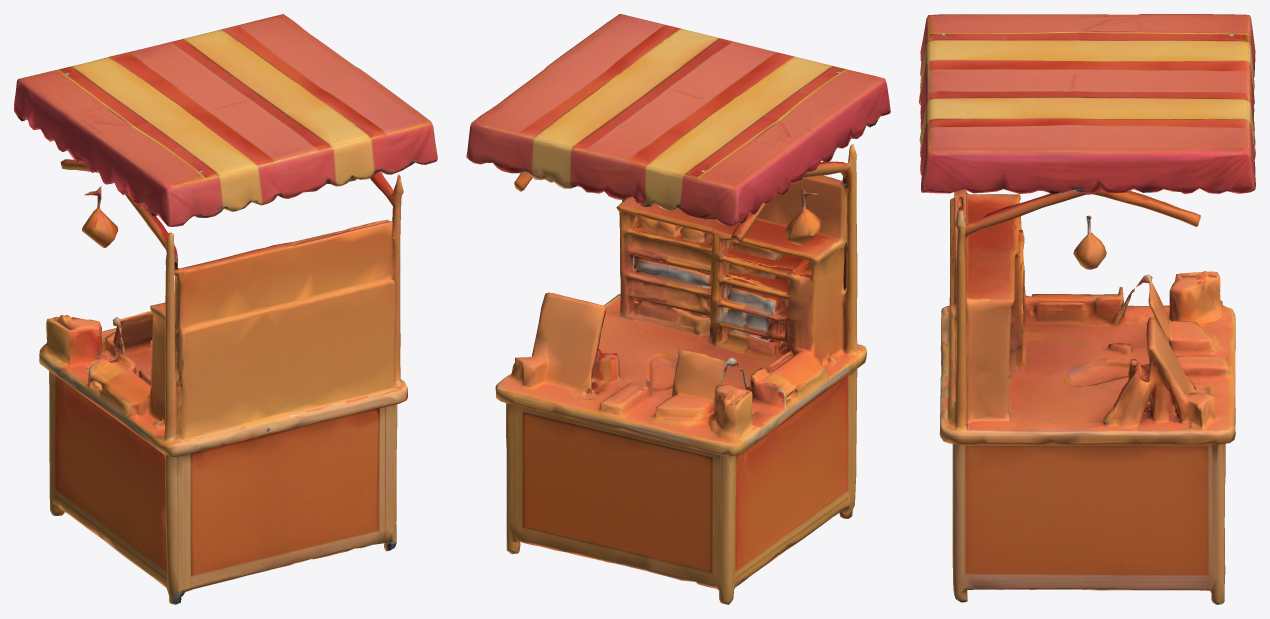
The model's file is market-stall.glb.
3 renders of one model, left to right at view 1: azimuth 30°, elevation 25°; view 2: azimuth 150°, elevation 25°; view 3: azimuth 270°, elevation 25°, orthographic. The views are drawn at different scales.
Parts seen in each view (by area): view 1: Mesh1.0; view 2: Mesh1.0; view 3: Mesh1.0.
Boxes of the visible parts, x1=… form: Mesh1.0: x1=14, y1=14, x2=437, y2=604; Mesh1.0: x1=466, y1=14, x2=890, y2=604; Mesh1.0: x1=919, y1=14, x2=1255, y2=604.
Bounding box in the file's own units: 1.38 × 2.01 × 1.31.
Materials: 1 (1 with a texture image).
